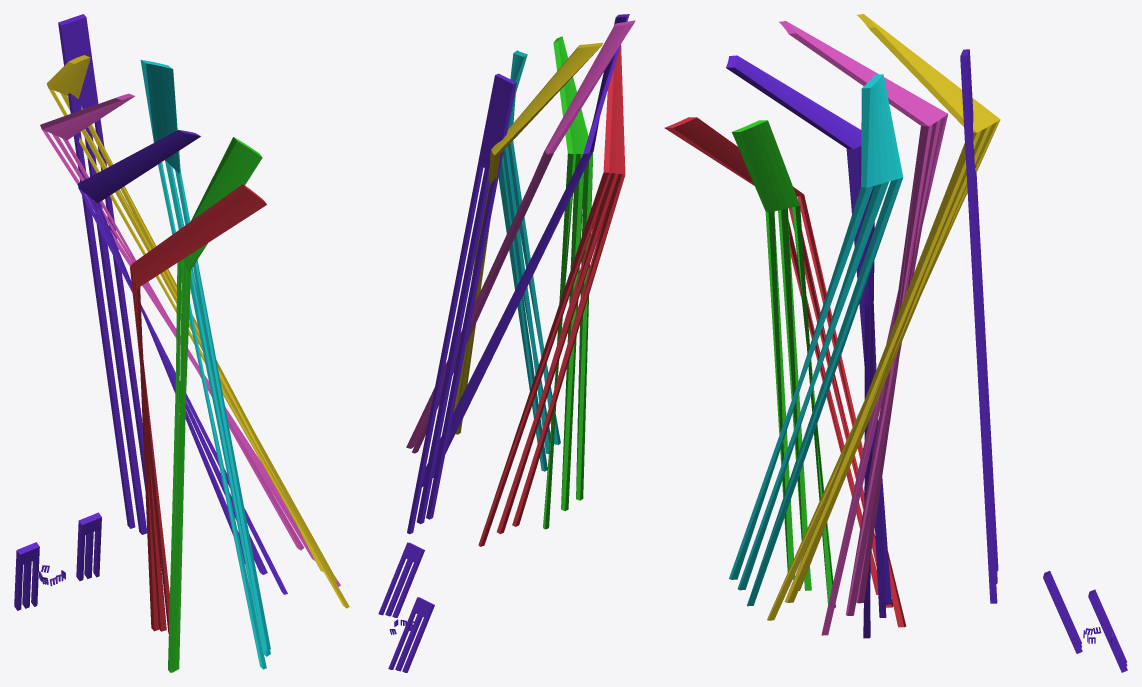
File: weird.dae
The picture shows the model from 3 angles, left to right: view 1: azimuth 30°, elevation 25°; view 2: azimuth 150°, elevation 25°; view 3: azimuth 270°, elevation 25°; orthographic projection. The views are drawn at different scales.
Parts seen in each view (by area): view 1: Cube.013, Cube.012, Cube.009, Cube.010; view 2: Cube.013, Cube.012, Cube.009, Cube.010; view 3: Cube.013, Cube.012, Cube.010, Cube.009.
Boxes of the visible parts, <box> form: Cube.013: <box>40,55,349,672</box>; Cube.012: <box>58,14,147,534</box>; Cube.009: <box>14,542,39,610</box>; Cube.010: <box>76,512,101,581</box>; Cube.013: <box>406,14,635,546</box>; Cube.012: <box>407,73,516,534</box>; Cube.009: <box>388,597,434,672</box>; Cube.010: <box>378,542,424,617</box>; Cube.013: <box>664,14,1000,638</box>; Cube.012: <box>960,49,998,603</box>; Cube.010: <box>1043,570,1082,653</box>; Cube.009: <box>1088,589,1127,672</box>.
Size of the model in its own units: 155 by 276 by 401.
